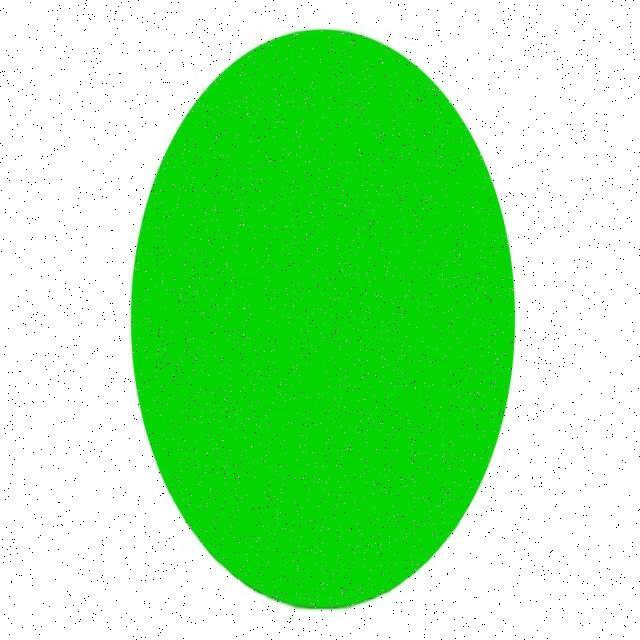Circle: (132, 25, 516, 607)
